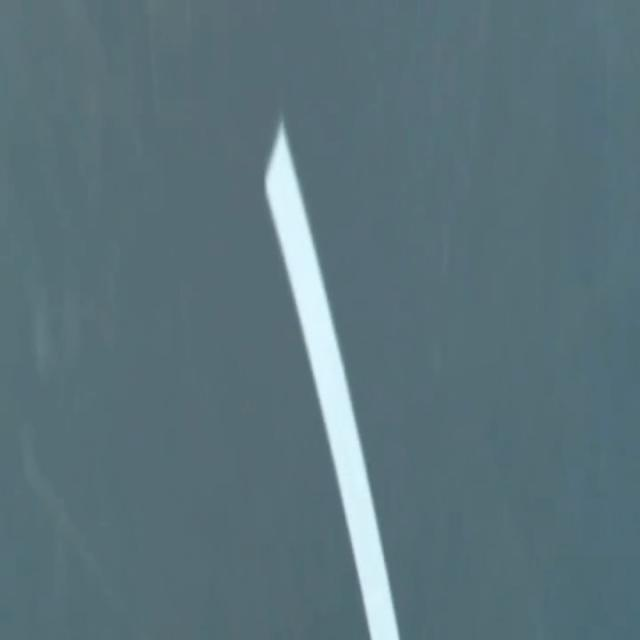center: (266, 122, 399, 639)
